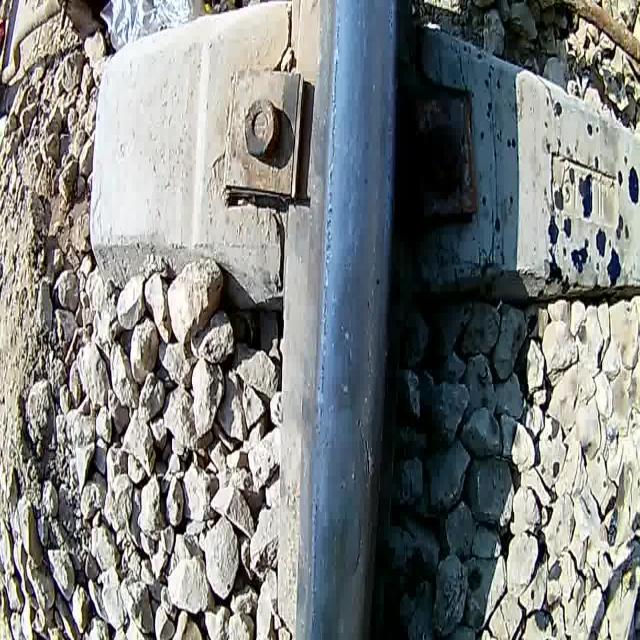Cracks: (350, 396, 382, 600)
Flakings: (302, 1, 349, 640)
Squats: (313, 502, 357, 640), (324, 347, 372, 427)
